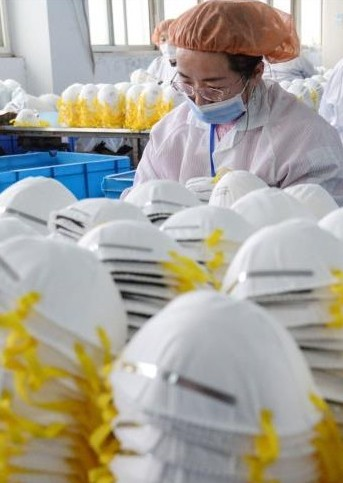with_mask: (175, 44, 254, 125), (151, 18, 186, 62)
